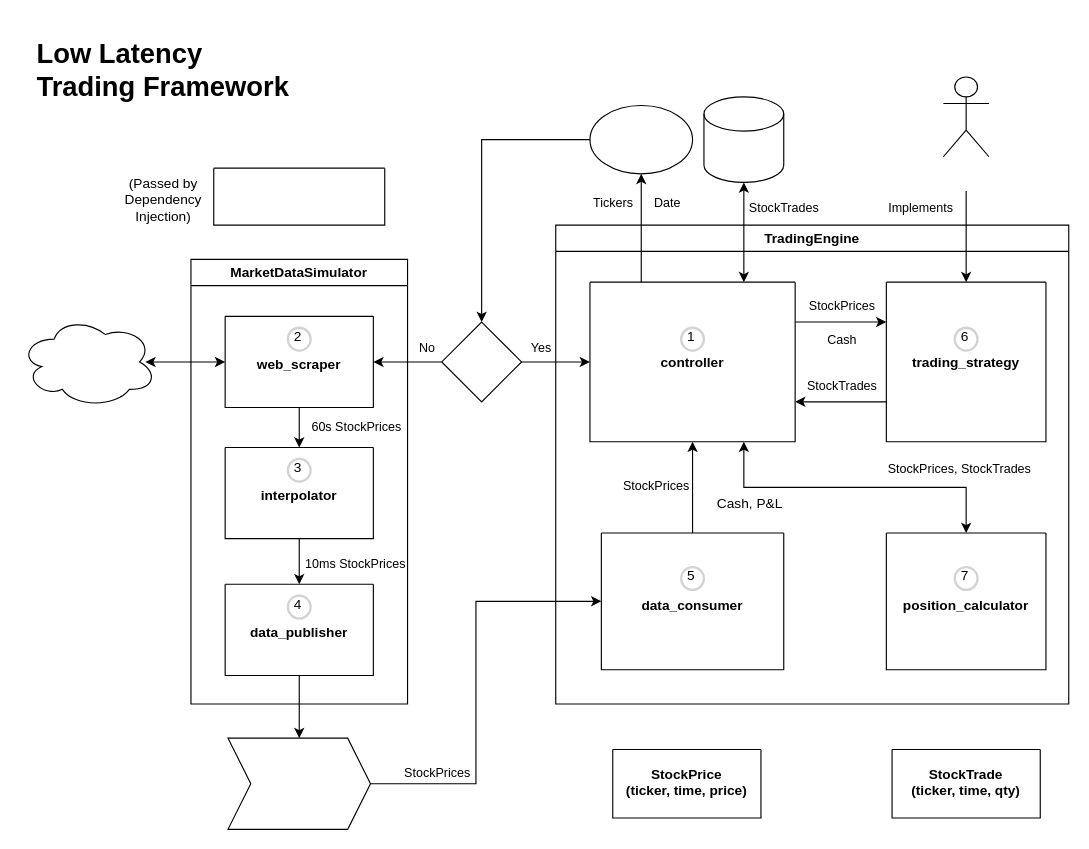
Image size: 1089x849. Some labels were removed from this diagram. Each missing label, with the centre of its shape:
Data in cache?: the point at 481,361
Exchange API: the point at 88,361
Kafka Queue (prices): the point at 298,783
performance_profiler: the point at 299,196
prices cache (Redis): the point at 641,139
Trader: the point at 965,116
trades.db: the point at 743,139
